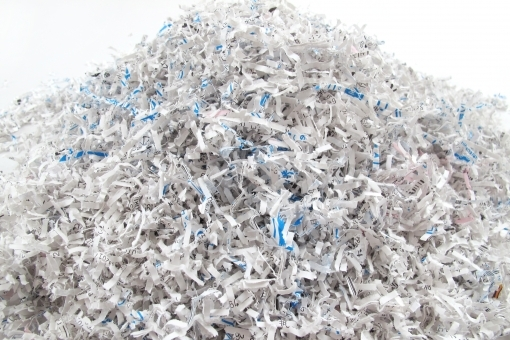paper: (220, 79, 280, 143), (311, 72, 366, 140), (92, 166, 147, 233), (258, 177, 306, 253), (141, 256, 191, 326), (223, 268, 283, 326), (360, 270, 419, 327), (343, 172, 398, 231), (411, 114, 452, 187), (157, 120, 205, 174), (57, 252, 98, 306), (297, 257, 338, 306), (22, 183, 71, 222), (104, 242, 139, 293), (198, 194, 229, 249), (77, 103, 120, 140), (410, 206, 447, 248), (148, 66, 188, 104), (218, 149, 258, 184), (156, 184, 185, 231), (51, 137, 90, 171), (198, 27, 233, 61), (262, 35, 291, 71)
